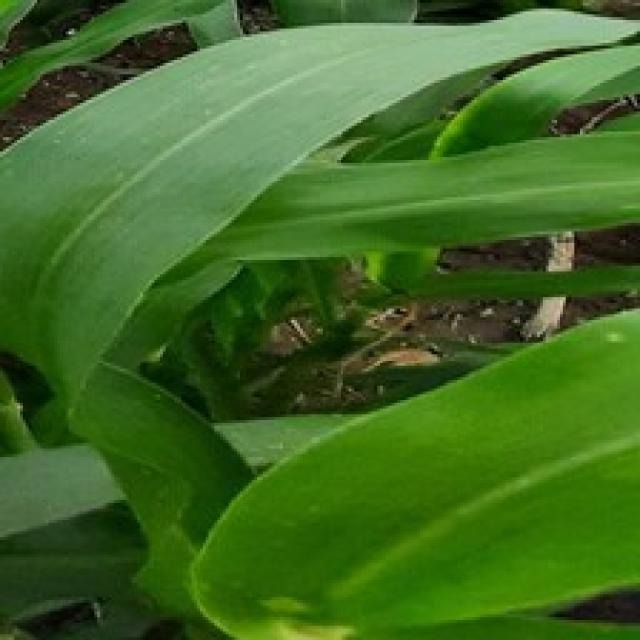Corn: (0, 0, 637, 637), (186, 294, 637, 637)
